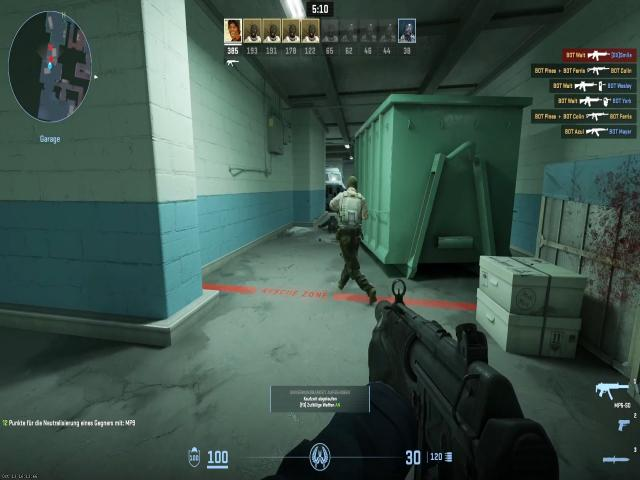T: (328, 170, 375, 238)
T-Head: (340, 174, 362, 200)
